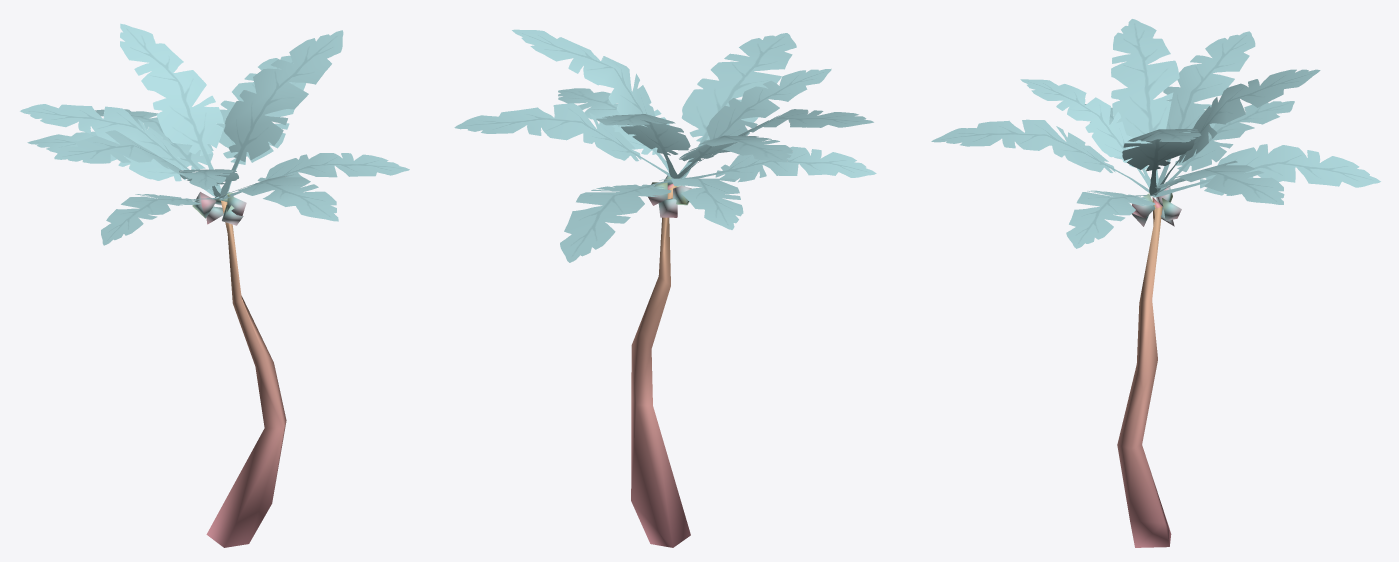
File: lod2coconutV1.2.fbx
3 renders of one model, left to right at view 1: azimuth 30°, elevation 25°; view 2: azimuth 150°, elevation 25°; view 3: azimuth 270°, elevation 25°, orthographic. The views are drawn at different scales.
Visible parts, largest first — view 1: palmtree_04.010; view 2: palmtree_04.010; view 3: palmtree_04.010.
Part boxes in pixels (box(x1,y1,x2,y2)): palmtree_04.010: box(20, 23, 409, 547); palmtree_04.010: box(454, 29, 876, 547); palmtree_04.010: box(931, 19, 1380, 547).
Size of the model in its own units: 819 by 1044 by 936.
